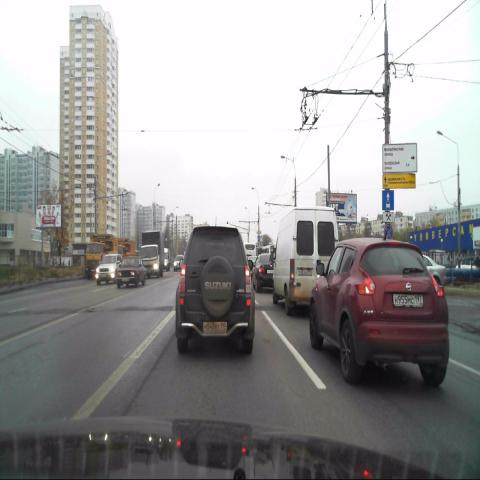5_14: (382, 191, 394, 210)
